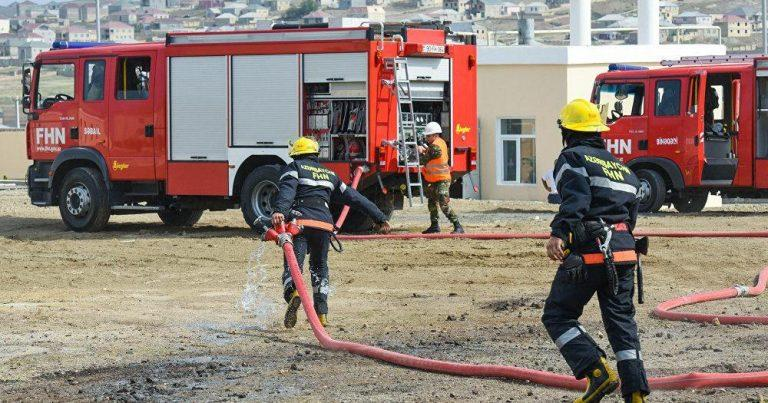Fire-engine: (15, 37, 471, 240), (581, 59, 759, 236)
